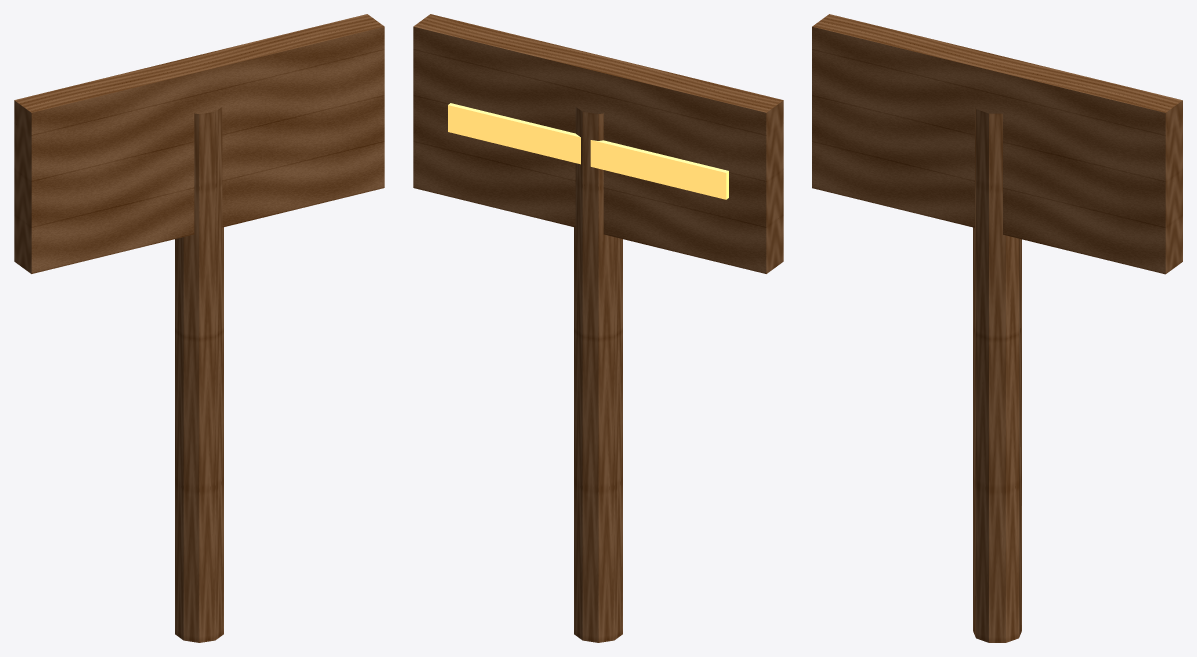
The model's file is trail_sign.gltf.
3 renders of one model, left to right at view 1: azimuth 30°, elevation 25°; view 2: azimuth 150°, elevation 25°; view 3: azimuth 330°, elevation 25°, orthographic.
Parts seen in each view (by area): view 1: trail_sign; view 2: trail_sign; view 3: trail_sign.
Boxes of the visible parts, x1,y1,x2,y2 form: trail_sign: [14, 14, 384, 642]; trail_sign: [413, 14, 783, 642]; trail_sign: [812, 14, 1182, 642].
Bounding box in the file's own units: 1.65 × 2.54 × 0.197.
Materials: 2 (1 with a texture image).
